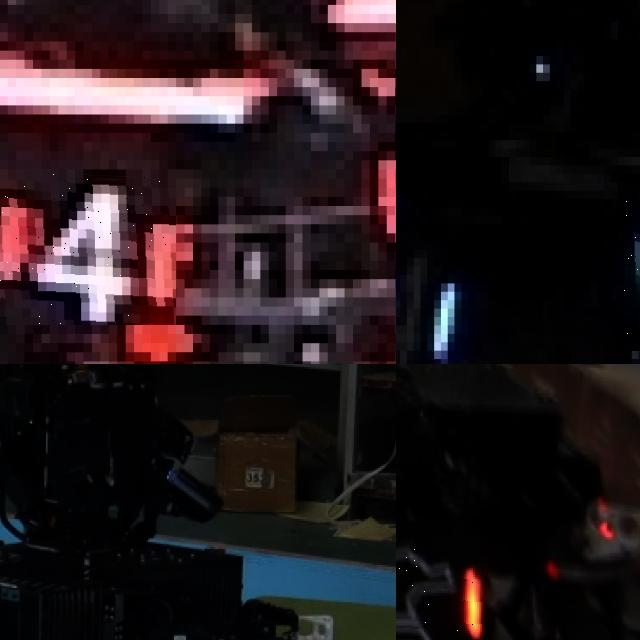B4: (396, 224, 461, 364)
R4: (0, 169, 176, 324)
Rs: (396, 537, 486, 640)
